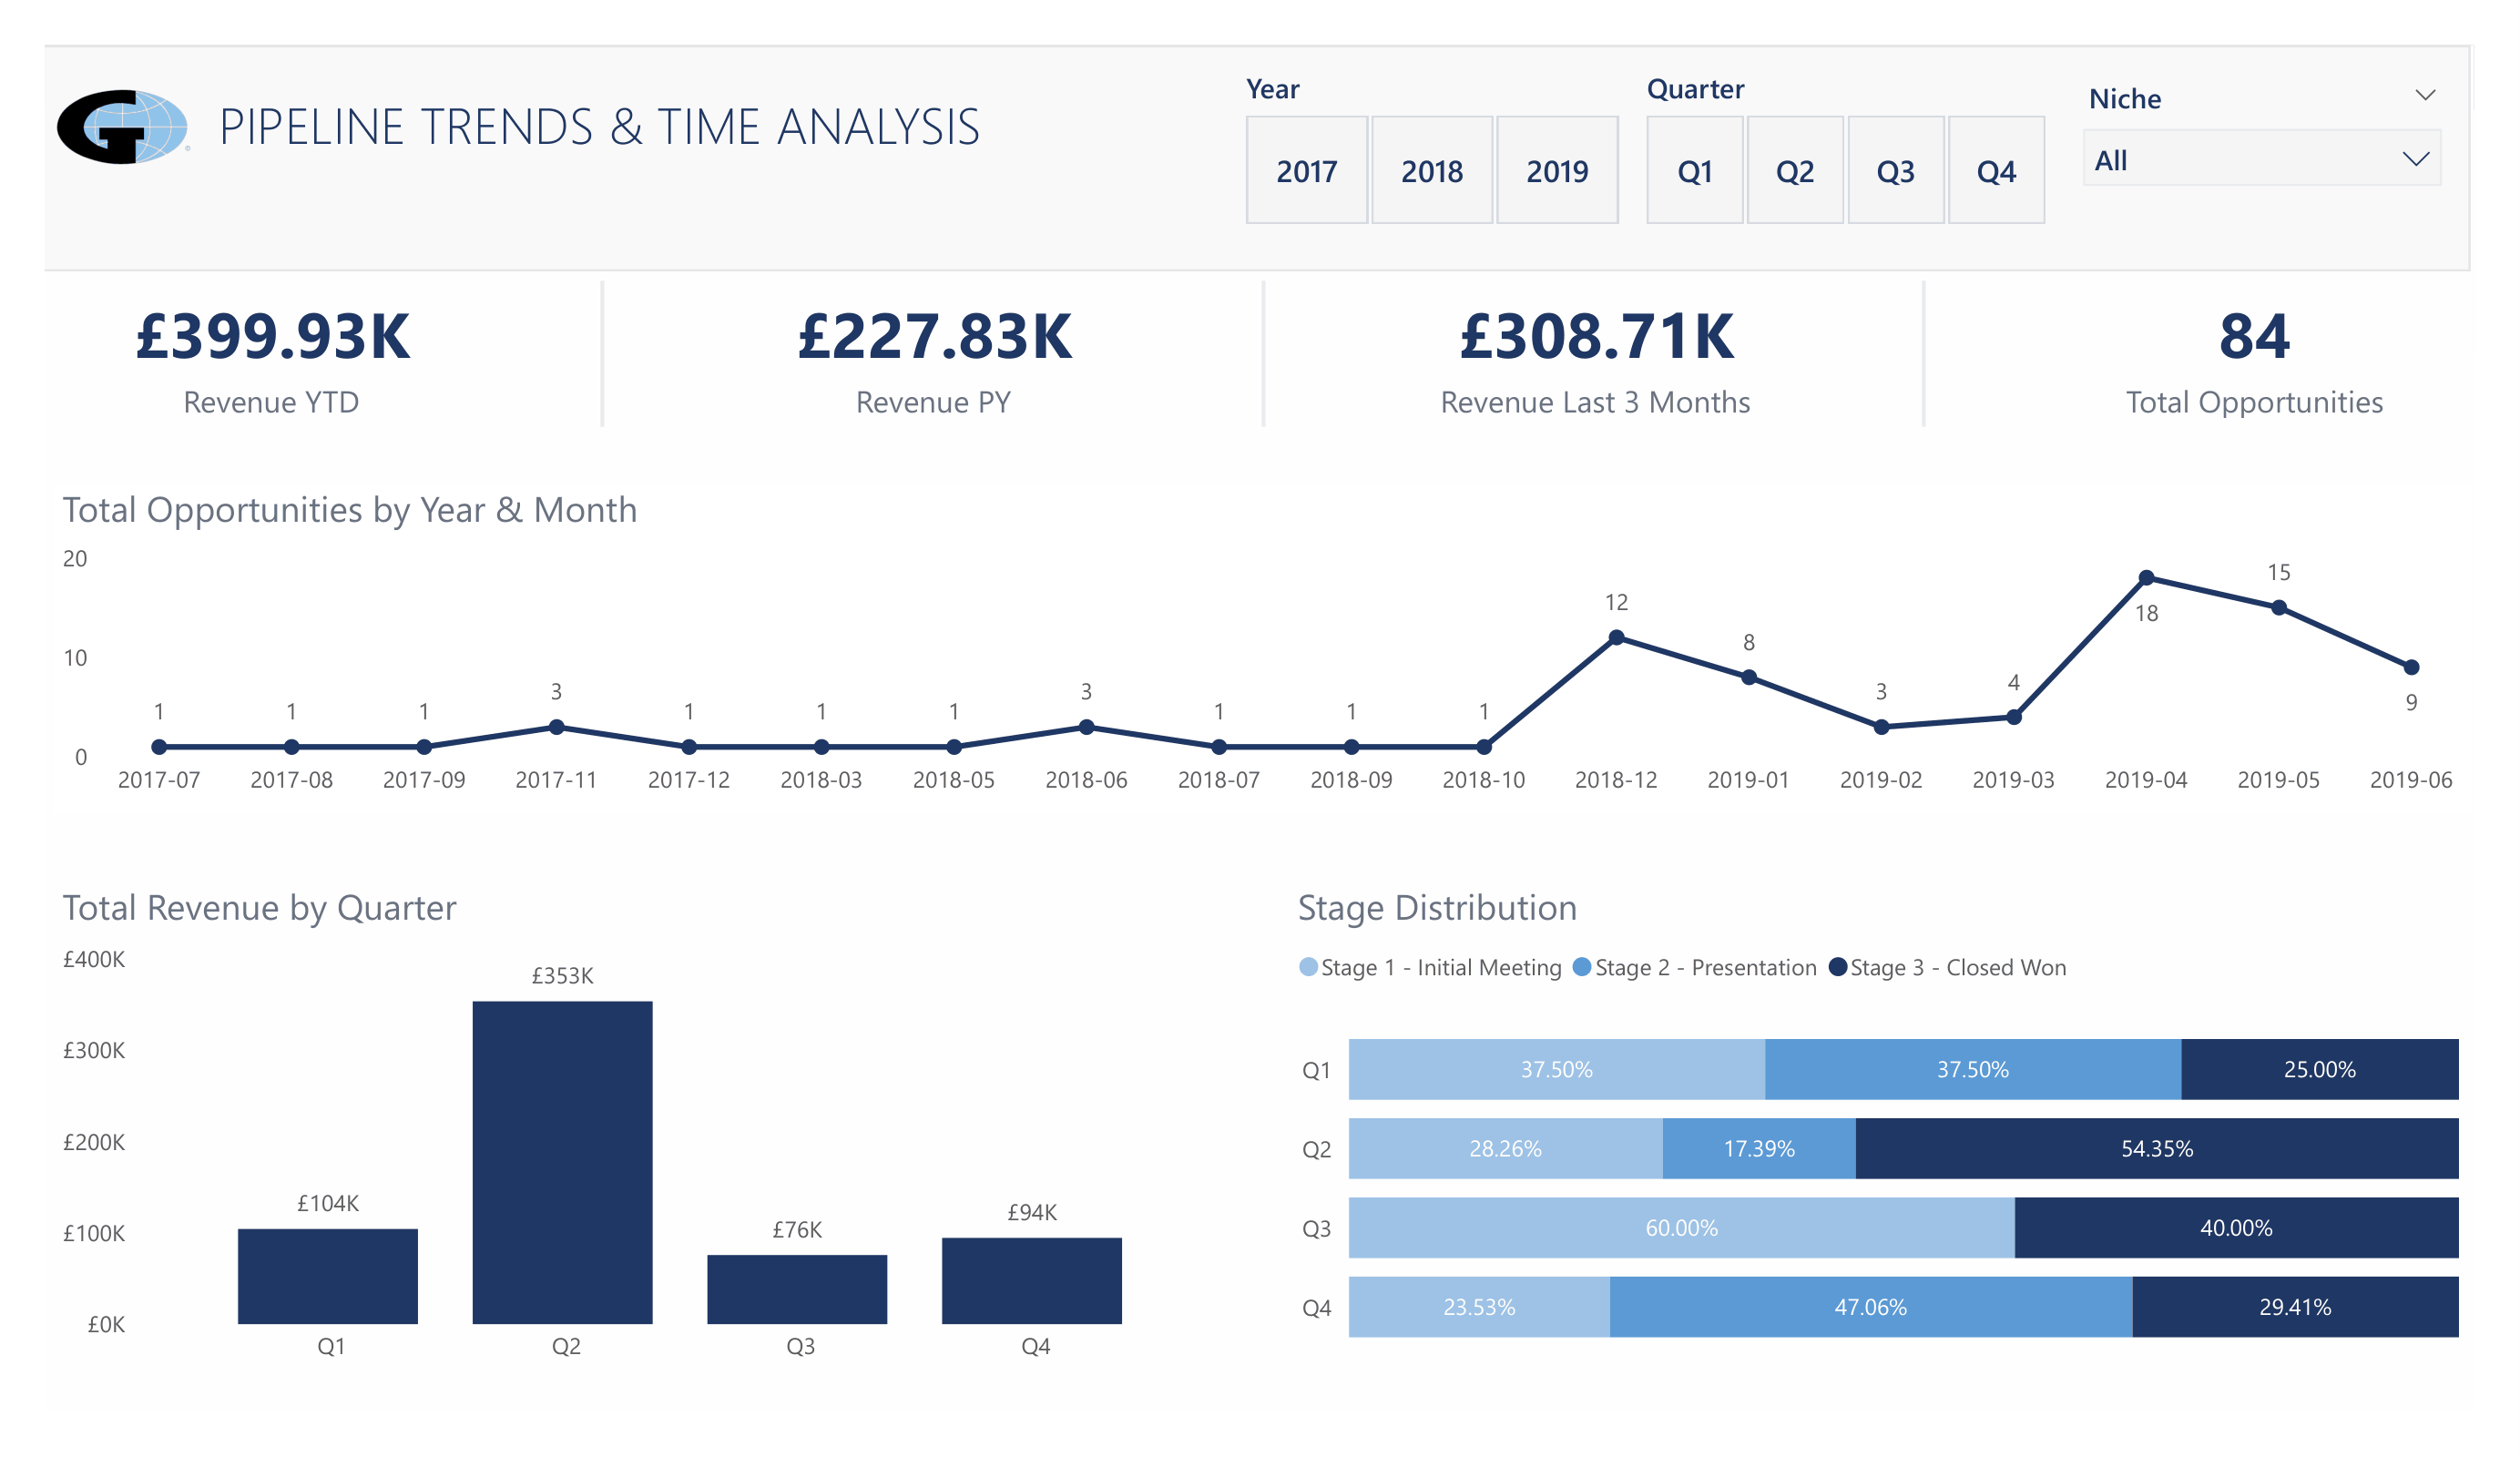

Layout of this report page (visuals, bound fields, positions):
{"tool":"powerbi","page":{"name":"Pipeline Trends ","canvas":[1280,720],"ordinal":2},"visuals":[{"type":"shape","box":[-156,0,1434.3,119],"z":0,"group":"g1"},{"type":"card","fields":{"Values":["_Measures.Revenue YTD"]},"box":[4.3,124.3,230,77.1],"z":0},{"type":"textbox","box":[86.4,18.4,428,46.8],"z":1000,"group":"g1"},{"type":"card","fields":{"Values":["_Measures.Revenue PY"]},"box":[352.9,124.3,230,77.1],"z":1000},{"type":"image","box":[0,0,82.2,85.5],"z":2000,"group":"g1"},{"type":"card","fields":{"Values":["_Measures.Revenue Last 3 Months"]},"box":[701.4,124.3,231.4,77.1],"z":2000},{"type":"advancedSlicerVisual","fields":{"Values":["Calendar.Year"]},"box":[627.8,12.2,208.3,86.5],"z":3000,"group":"g1"},{"type":"card","fields":{"Values":["_Measures.Total Opportunities"]},"box":[1048.6,124.3,231.4,77.1],"z":3000},{"type":"slicer","title":"Niche","fields":{"Values":["Fact_Opportunities.Niche_Affiliations"]},"box":[1064.3,12.2,208.3,86.5],"z":4000,"group":"g1"},{"type":"shape","box":[284.3,124.3,18.6,77.1],"z":4000},{"type":"advancedSlicerVisual","title":"Quarter","fields":{"Values":["Calendar.Quarter"]},"box":[838.9,12.2,222.5,86.5],"z":5000,"group":"g1"},{"type":"shape","box":[632.9,124.3,18.6,77.1],"z":5000},{"type":"shape","box":[981.4,124.3,17.1,77.1],"z":6000},{"type":"lineChart","title":"Total Opportunities by Year & Month","fields":{"Y":["_Measures.Total Opportunities"],"Category":["Calendar.Year_Month"]},"box":[4.3,231,1275.6,174.3],"z":7000},{"type":"clusteredColumnChart","title":"Total Revenue by Quarter","fields":{"Y":["_Measures.Total Revenue (Valid Dates)"],"Category":["Calendar.Quarter"]},"box":[4.3,440.8,622.2,263.6],"z":8000},{"type":"hundredPercentStackedBarChart","title":"Stage Distribution","fields":{"Category":["Calendar.Quarter"],"Y":["_Measures.Total Opportunities"],"Series":["Dim_Stage.Stage_Name"]},"box":[654.8,440.8,622.2,263.6],"z":9000},{"type":"group","id":"g1","title":"Group 1","box":[-156,0,1434.3,119],"z":10000}]}

Visuals, with their boxes on the page's 1280x720 design canvas (x1, y1, x2, y2). These are canvas units, not pixel positions in the 2520x1457 screenshot, which may show the page scaled, cropped or inside an application window:
shape: pyautogui.locateOnScreen(-156, 0, 1278, 119)
card - _Measures.Revenue YTD: pyautogui.locateOnScreen(4, 124, 234, 201)
textbox: pyautogui.locateOnScreen(86, 18, 514, 65)
card - _Measures.Revenue PY: pyautogui.locateOnScreen(353, 124, 583, 201)
image: pyautogui.locateOnScreen(0, 0, 82, 86)
card - _Measures.Revenue Last 3 Months: pyautogui.locateOnScreen(701, 124, 933, 201)
advancedSlicerVisual - Calendar.Year: pyautogui.locateOnScreen(628, 12, 836, 99)
card - _Measures.Total Opportunities: pyautogui.locateOnScreen(1049, 124, 1280, 201)
"Niche" slicer: pyautogui.locateOnScreen(1064, 12, 1273, 99)
shape: pyautogui.locateOnScreen(284, 124, 303, 201)
"Quarter" advancedSlicerVisual: pyautogui.locateOnScreen(839, 12, 1061, 99)
shape: pyautogui.locateOnScreen(633, 124, 652, 201)
shape: pyautogui.locateOnScreen(981, 124, 998, 201)
"Total Opportunities by Year & Month" lineChart: pyautogui.locateOnScreen(4, 231, 1280, 405)
"Total Revenue by Quarter" clusteredColumnChart: pyautogui.locateOnScreen(4, 441, 626, 704)
"Stage Distribution" hundredPercentStackedBarChart: pyautogui.locateOnScreen(655, 441, 1277, 704)
"Group 1" group: pyautogui.locateOnScreen(-156, 0, 1278, 119)
